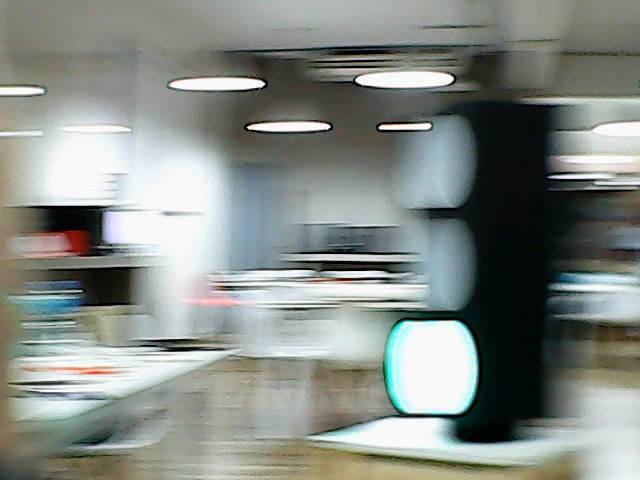verde: (389, 94, 559, 437)
